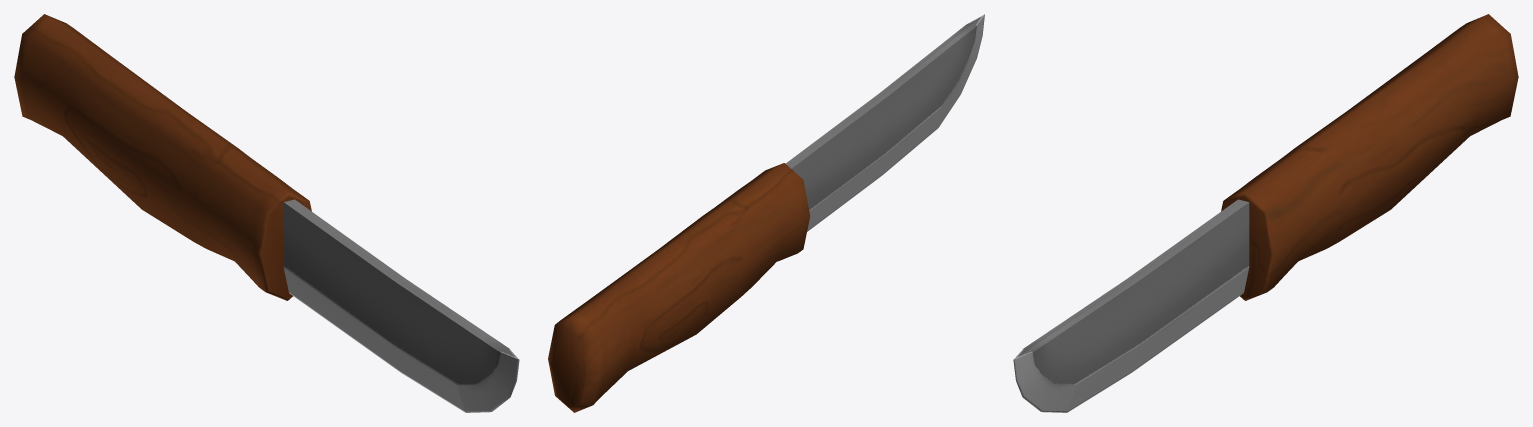
File: Carving_Knife.fbx
The picture shows the model from 3 angles, left to right: view 1: azimuth 30°, elevation 25°; view 2: azimuth 150°, elevation 25°; view 3: azimuth 330°, elevation 25°; orthographic projection. The views are drawn at different scales.
Visible parts, largest first — view 1: polySurface3; view 2: polySurface3; view 3: polySurface3.
Boxes of the visible parts, box(x1,y1,x2,y2) form: polySurface3: box(14, 14, 519, 412); polySurface3: box(548, 14, 984, 412); polySurface3: box(1013, 14, 1518, 412).
Bounding box in the file's own units: 0.5744 × 1.1 × 8.02.
